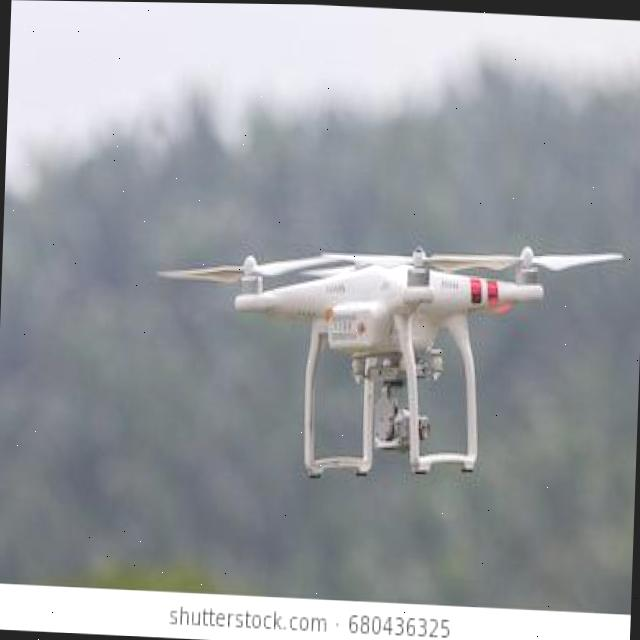drone: (131, 162, 640, 531)
